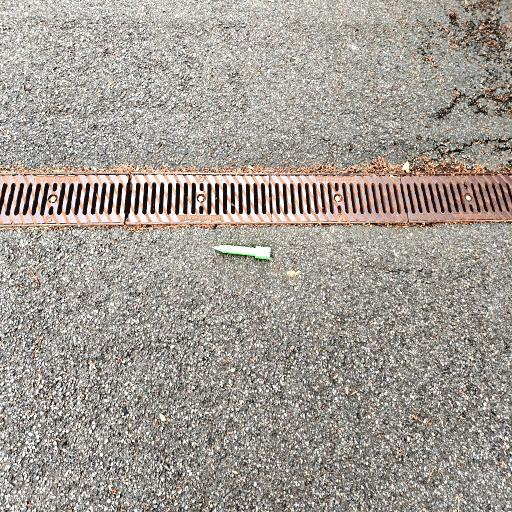Probe-Detection: (213, 245, 271, 260)
